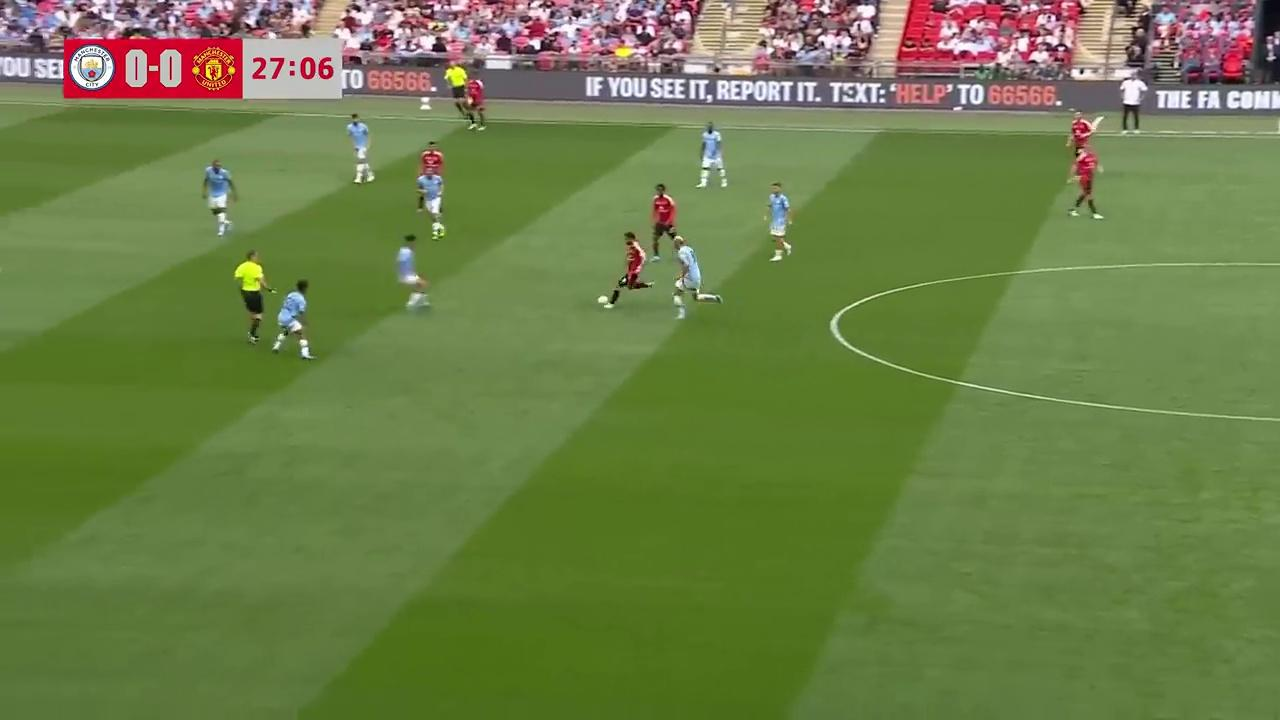ball: (596, 293, 609, 308)
player: (670, 236, 723, 318), (232, 249, 271, 343), (270, 278, 315, 359), (604, 232, 651, 308), (395, 233, 431, 310), (201, 158, 236, 236), (1067, 146, 1103, 219), (762, 181, 793, 261), (650, 183, 681, 260), (417, 159, 446, 239), (417, 141, 445, 220), (697, 121, 728, 188), (346, 112, 373, 183), (1065, 111, 1094, 158), (464, 75, 487, 131), (445, 63, 469, 116)
referee: (232, 249, 271, 344), (445, 64, 468, 118)
